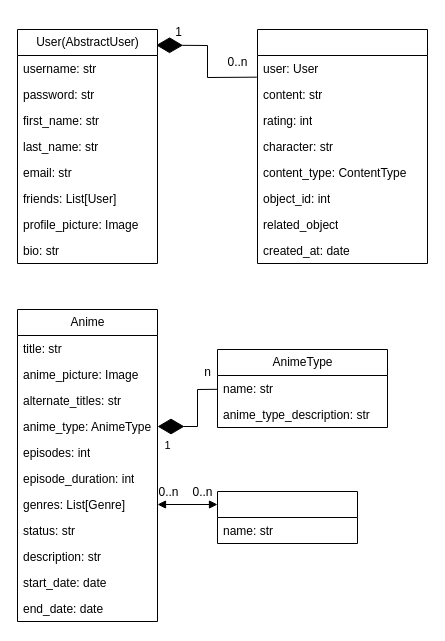
Some shapes in this 445 by 641 pixel diagram are drawn without their labels. Here are the shapes that lost their labels. From the top down, the box of each, then its label:
(256, 28, 428, 264): Review
(216, 490, 358, 544): Genre
